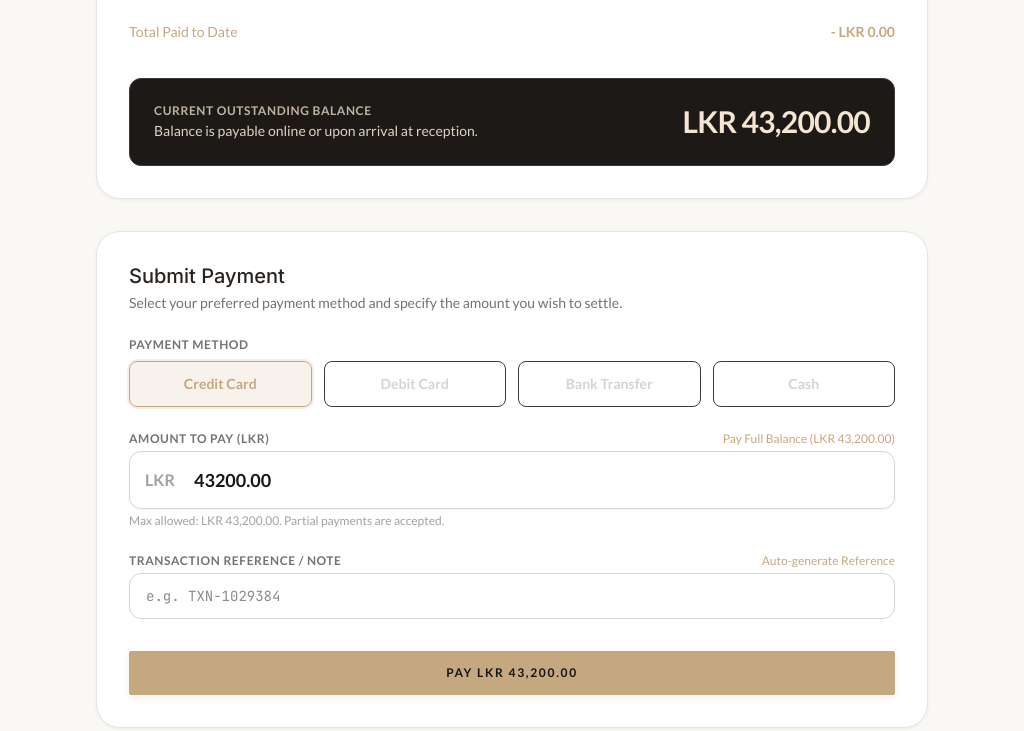
Test: GuestPayPage - P05-M05-T14 › validates amount: prevents paying more than outstanding balance
The image size is (1024, 731).
(page scrolled)
Note: Change amount to 50000 (greater than 43200)
Replace the text in the number field with test id "payment-amount-input" with "50000.00" at (512, 480), box [129,451,895,509]
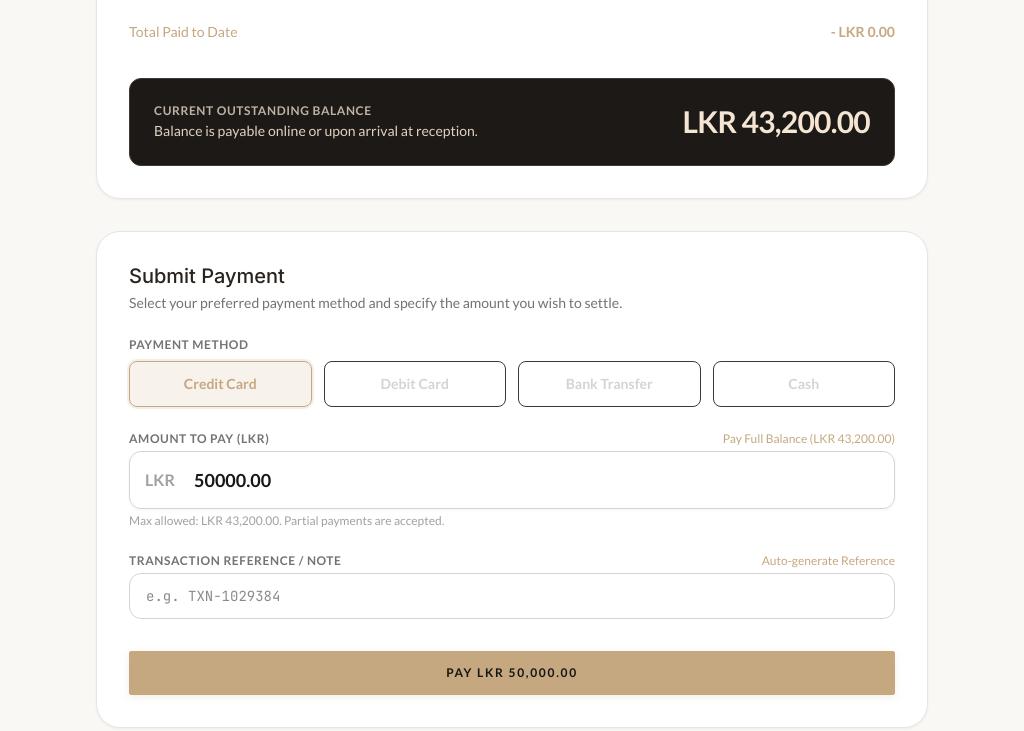
Submit the form with test id "guest-payment-form", box [129,337,895,695]
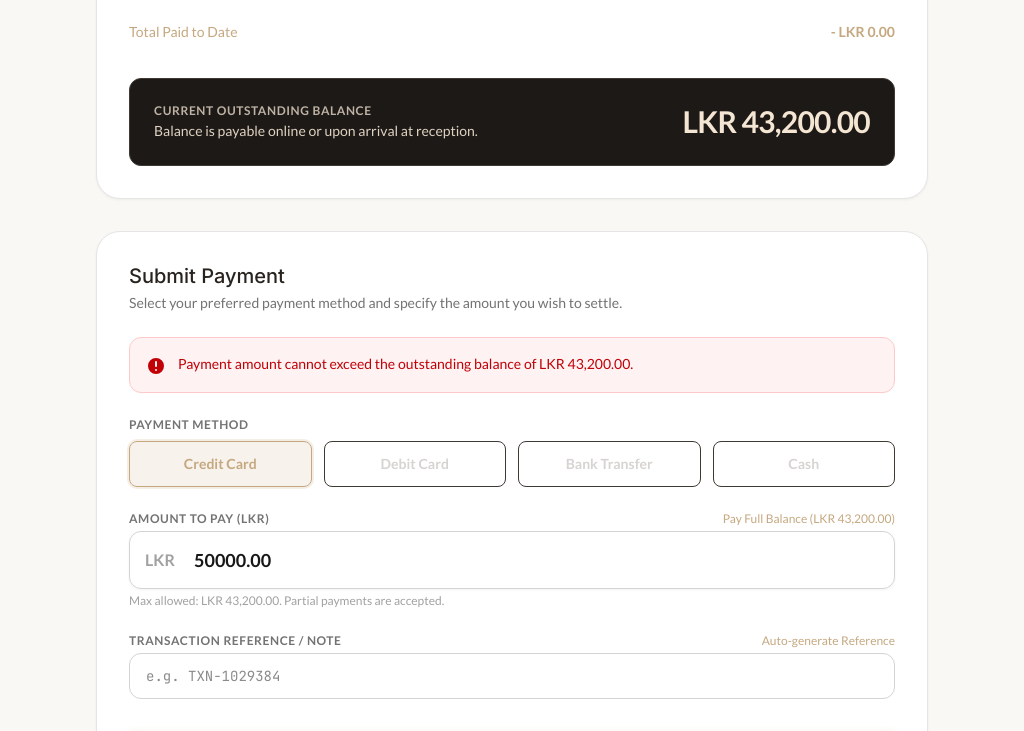
Result: the text "Payment amount cannot exceed the outstanding balance" is shown at [178,355,633,372]
